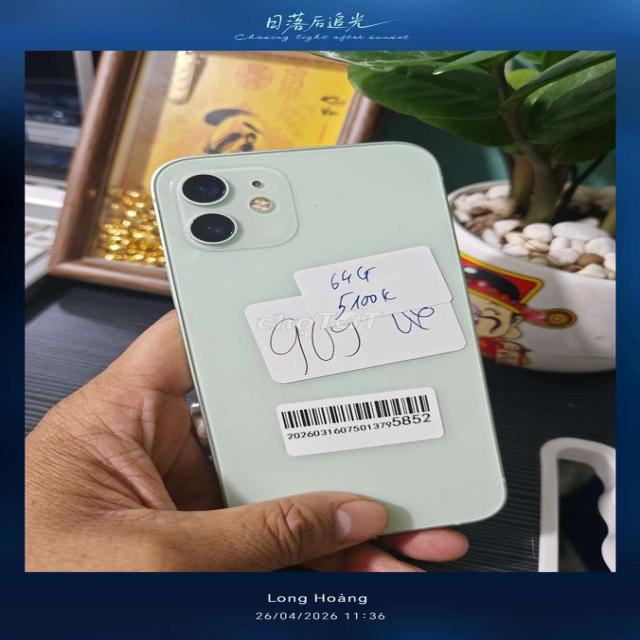gen_12_13: (116, 138, 522, 544)
